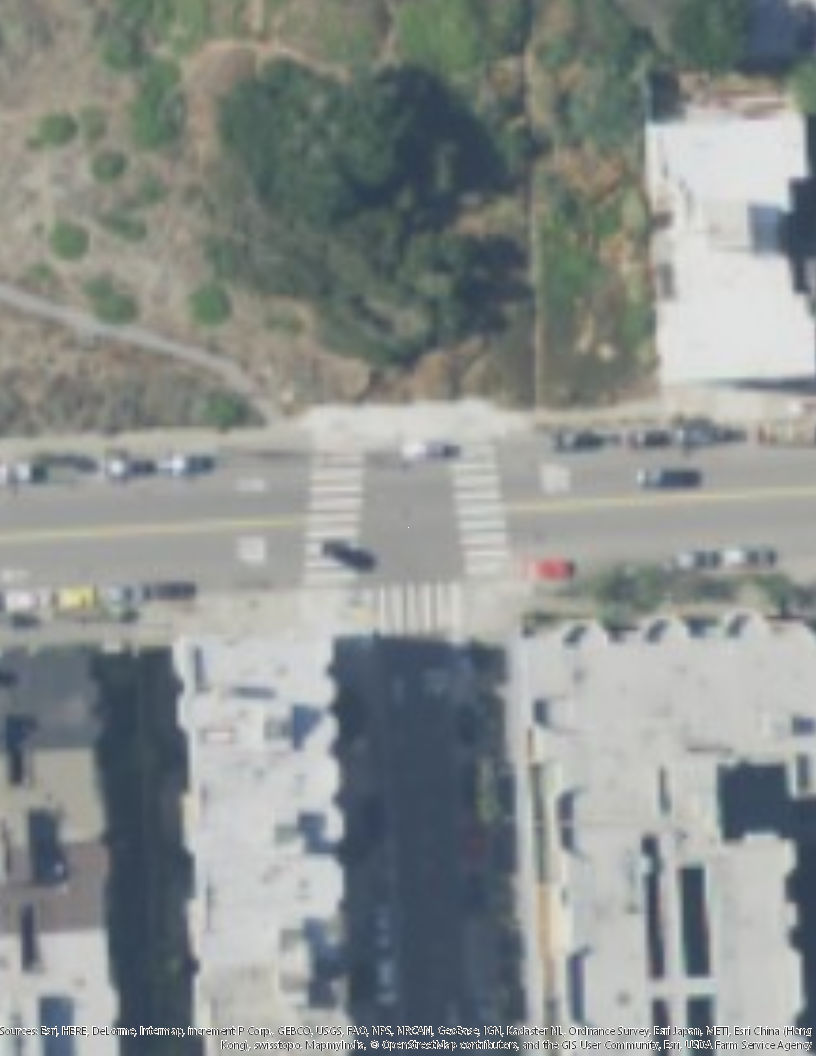zebracross: (309, 440, 361, 581), (453, 442, 506, 578), (365, 580, 464, 630)
